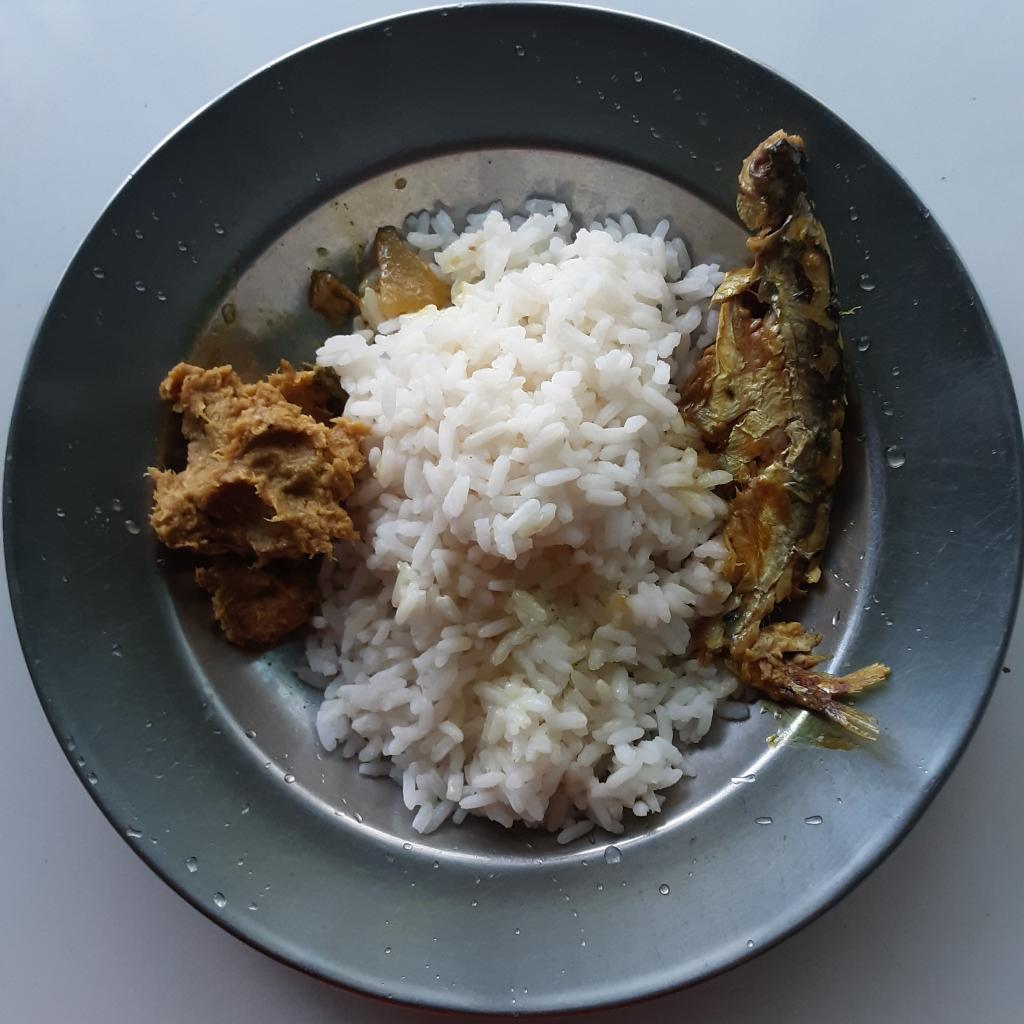fish: (672, 120, 890, 760)
rice: (298, 189, 762, 841)
vorta: (144, 360, 377, 644)
